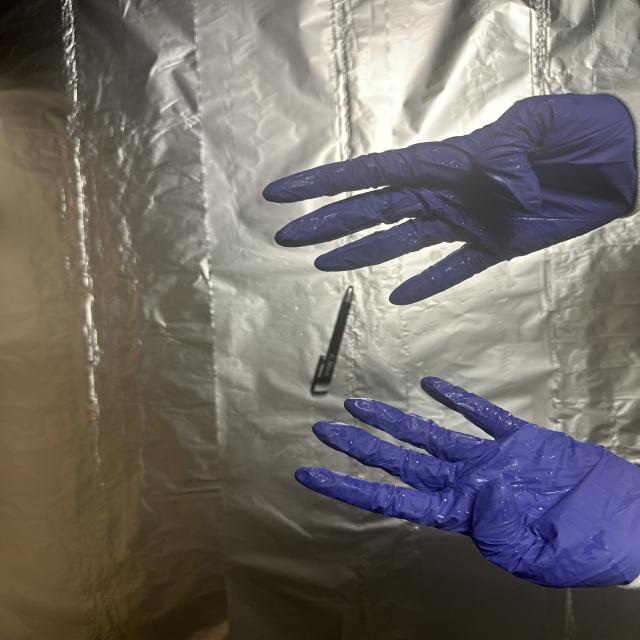gloves_contaminated: (263, 81, 640, 305), (295, 377, 640, 588)
